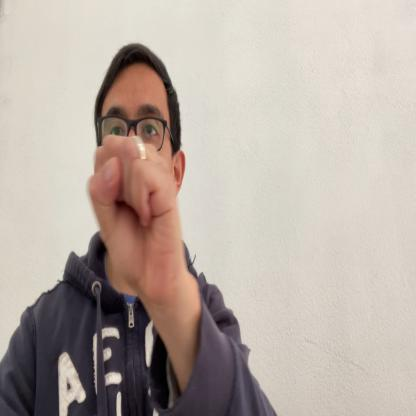S: (86, 135, 184, 308)
